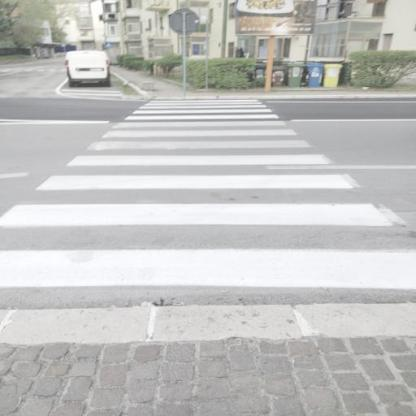crosswalk: (29, 149, 363, 196), (110, 114, 291, 130)
